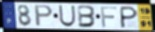8: (17, 4, 34, 28)
B: (77, 5, 98, 29)
F: (100, 6, 119, 29)
P: (119, 6, 139, 30), (34, 4, 54, 27)
U: (58, 5, 77, 28)
